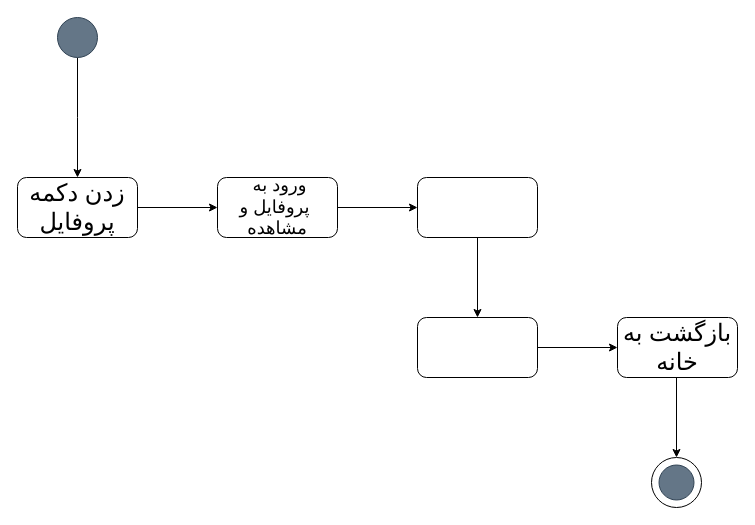
Image size: 755x525. Some labels were removed from this diagram. Each missing label, with the centre of its shape:
"زدن دکمه ذخیره" goes at point (477, 347).
"ویرایش یا ورود اطلاعات" goes at point (477, 207).
